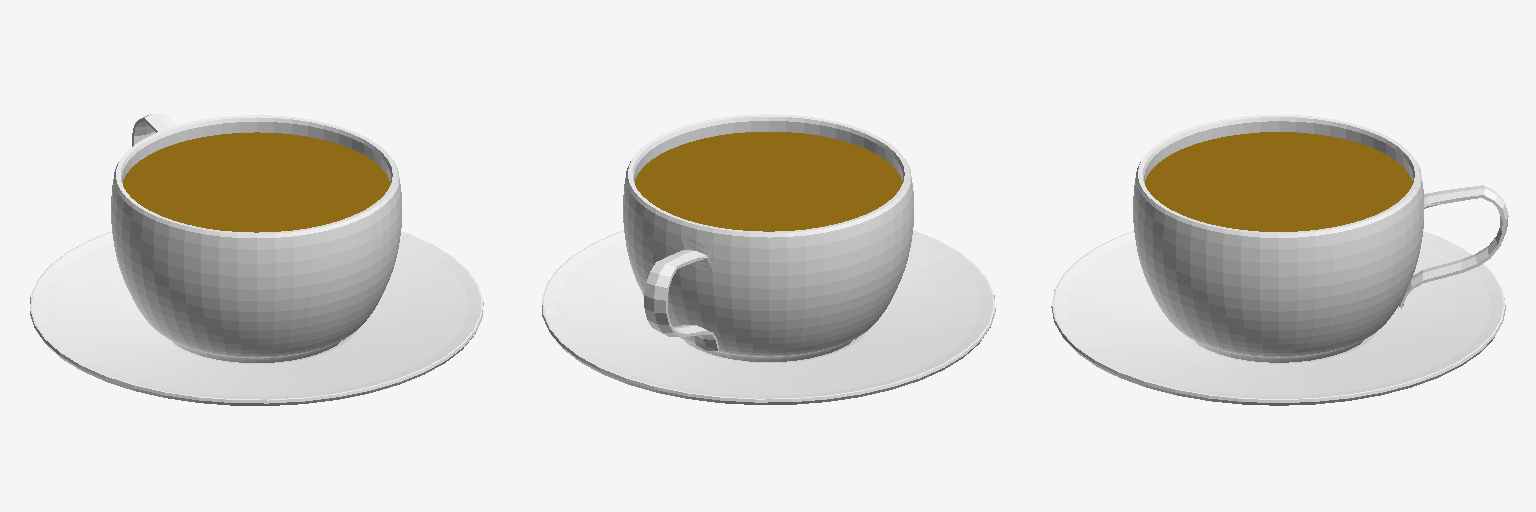
The model's file is Cup3.obj.
3 renders of one model, left to right at view 1: azimuth 30°, elevation 25°; view 2: azimuth 150°, elevation 25°; view 3: azimuth 270°, elevation 25°, orthographic.
Parts seen in each view (by area): view 1: Cup_Geo, Saucer_Geo, Coffee_geo; view 2: Cup_Geo, Saucer_Geo, Coffee_geo; view 3: Cup_Geo, Saucer_Geo, Coffee_geo.
Part boxes in pixels (bbox=[...]): Cup_Geo: bbox=[111, 113, 401, 362]; Saucer_Geo: bbox=[30, 231, 483, 405]; Coffee_geo: bbox=[123, 132, 390, 232]; Cup_Geo: bbox=[623, 114, 913, 361]; Saucer_Geo: bbox=[542, 230, 995, 404]; Coffee_geo: bbox=[635, 132, 902, 231]; Cup_Geo: bbox=[1133, 115, 1508, 362]; Saucer_Geo: bbox=[1051, 231, 1505, 405]; Coffee_geo: bbox=[1145, 132, 1412, 231].
Size of the model in its own units: 7.06 by 2.8 by 7.1.